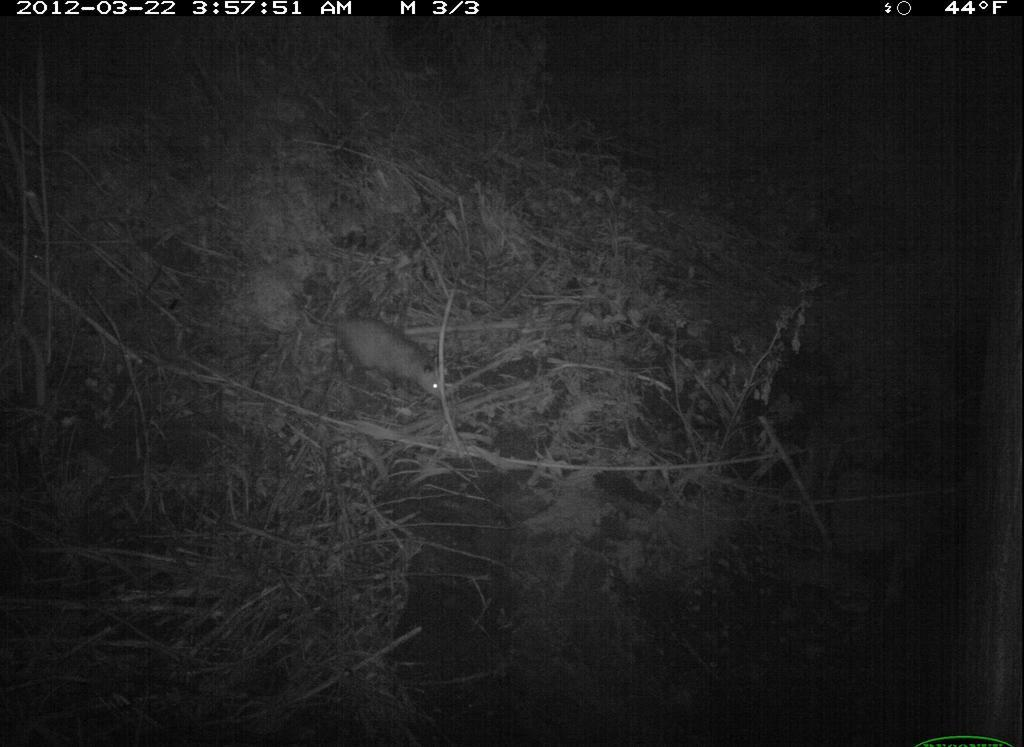opossum: (290, 294, 450, 404)
